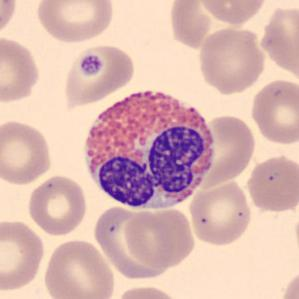Eosinophil: (76, 78, 221, 216)
Platelets: (78, 52, 103, 77)
RBC: (92, 203, 174, 282), (62, 42, 137, 109), (196, 25, 267, 95), (121, 206, 196, 270), (42, 237, 116, 299), (188, 179, 253, 247), (200, 111, 257, 188), (25, 173, 89, 237), (0, 118, 55, 186), (33, 0, 116, 44), (0, 217, 47, 293), (248, 77, 298, 146), (257, 2, 299, 83), (244, 153, 298, 214), (0, 34, 43, 104), (167, 0, 213, 51), (198, 0, 268, 26), (113, 283, 181, 299), (0, 0, 19, 41), (279, 267, 299, 299)
